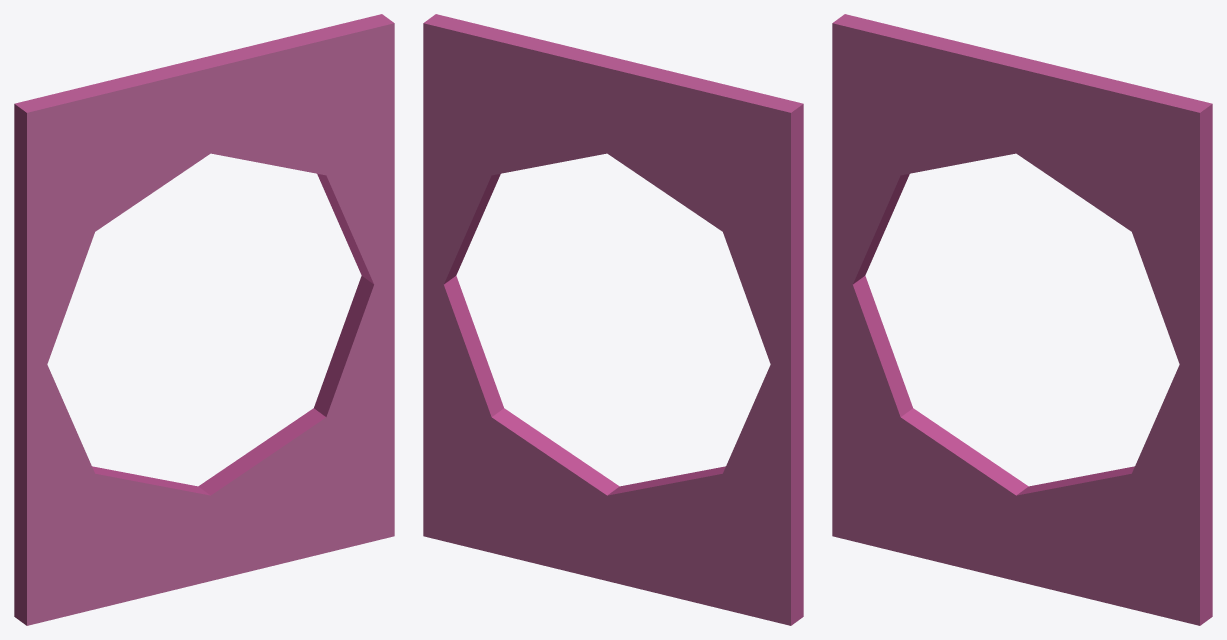
Rendered from squidgame_props_platform_decoration4_pink.fbx.
3 views of the same model, side by side, from view 1: azimuth 30°, elevation 25°; view 2: azimuth 150°, elevation 25°; view 3: azimuth 330°, elevation 25° (orthographic).
Visible parts, largest first — view 1: squidgame_props_platform_decoration4_pink; view 2: squidgame_props_platform_decoration4_pink; view 3: squidgame_props_platform_decoration4_pink.
Boxes of the visible parts, x1=… form: squidgame_props_platform_decoration4_pink: x1=14, y1=14, x2=394, y2=625; squidgame_props_platform_decoration4_pink: x1=423, y1=14, x2=803, y2=625; squidgame_props_platform_decoration4_pink: x1=832, y1=14, x2=1212, y2=625.
Size of the model in its own units: 4.5 by 6 by 0.2663.
